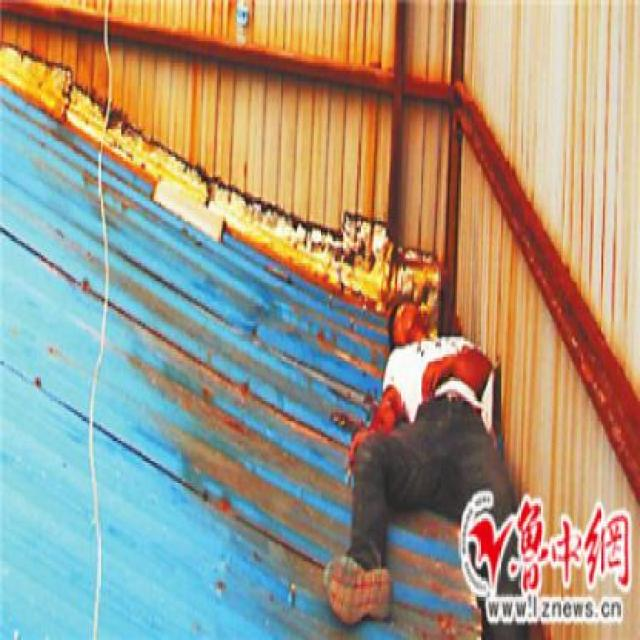fall: (311, 265, 538, 630)
